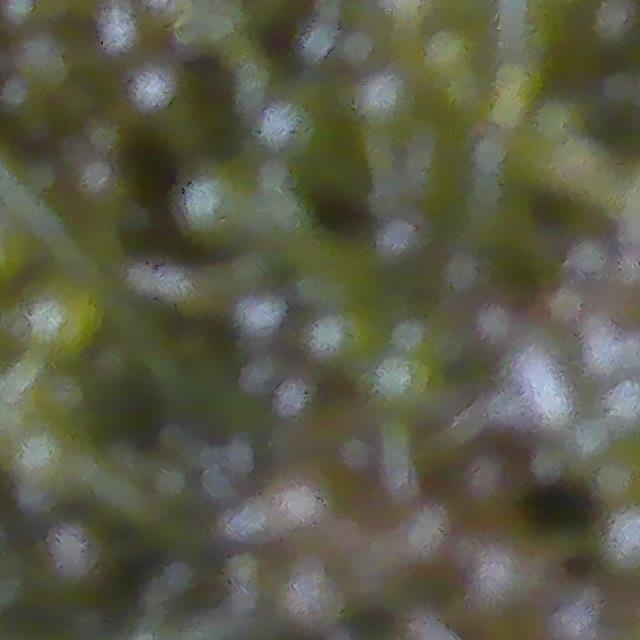SeaGrape: (452, 537, 556, 640), (272, 368, 361, 457), (33, 517, 121, 601), (259, 465, 342, 552), (390, 503, 484, 578), (449, 449, 532, 522), (279, 562, 345, 637), (29, 284, 94, 351)
